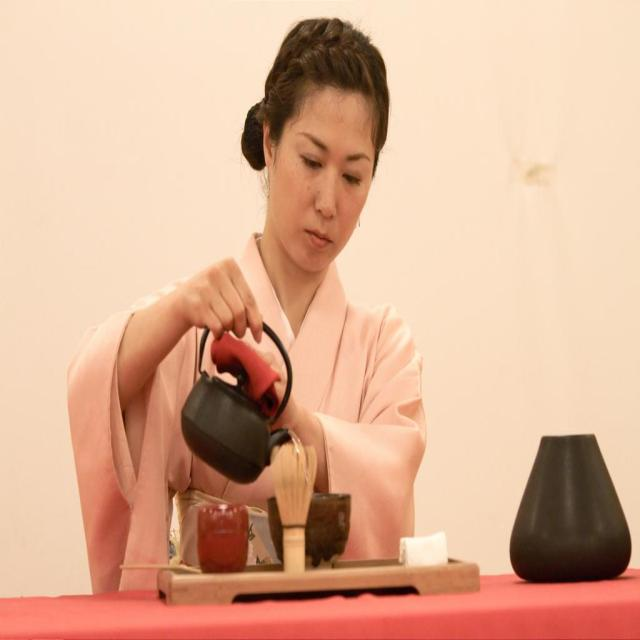Face: (254, 70, 374, 278)
